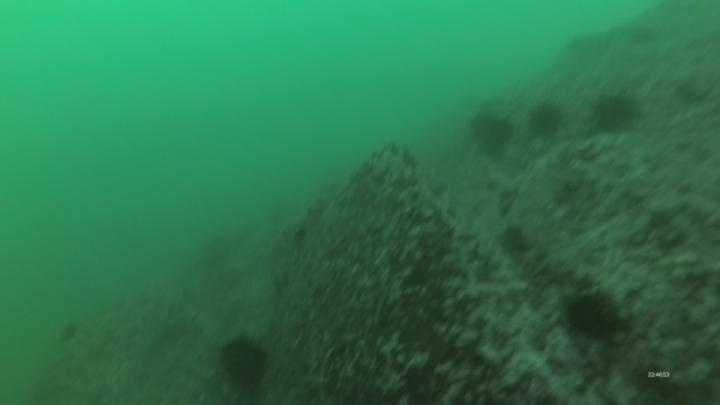echinus: (560, 288, 623, 343), (217, 334, 271, 391), (589, 88, 641, 136), (468, 108, 516, 156), (526, 100, 565, 140), (55, 319, 81, 346)
